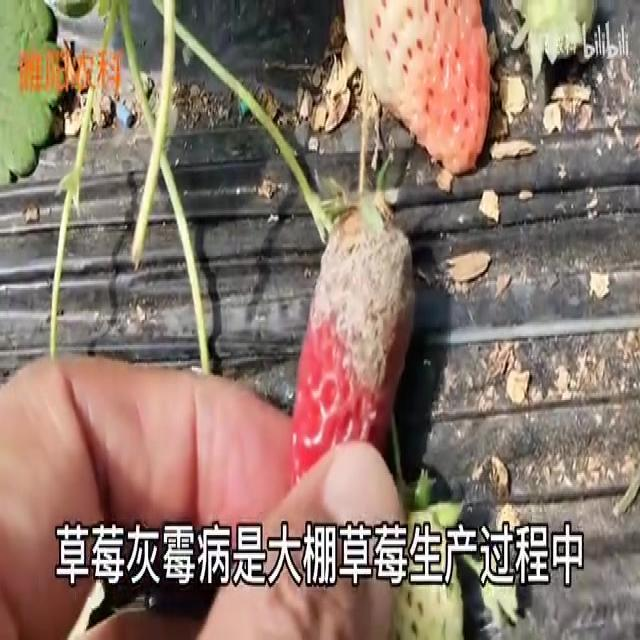Moho gris: (284, 179, 413, 472)
